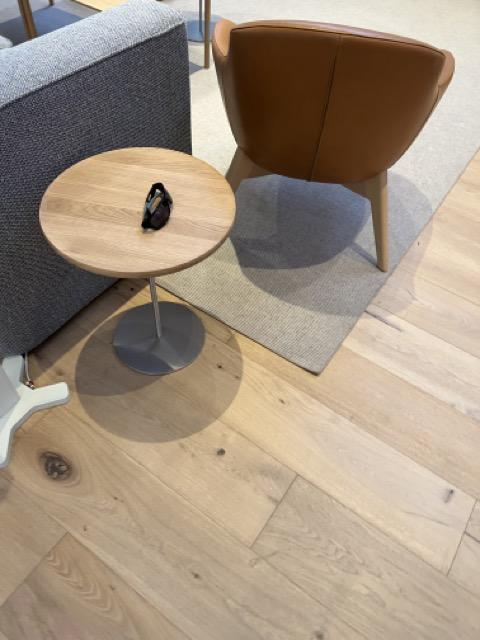Sunglasses: (140, 179, 175, 233)
